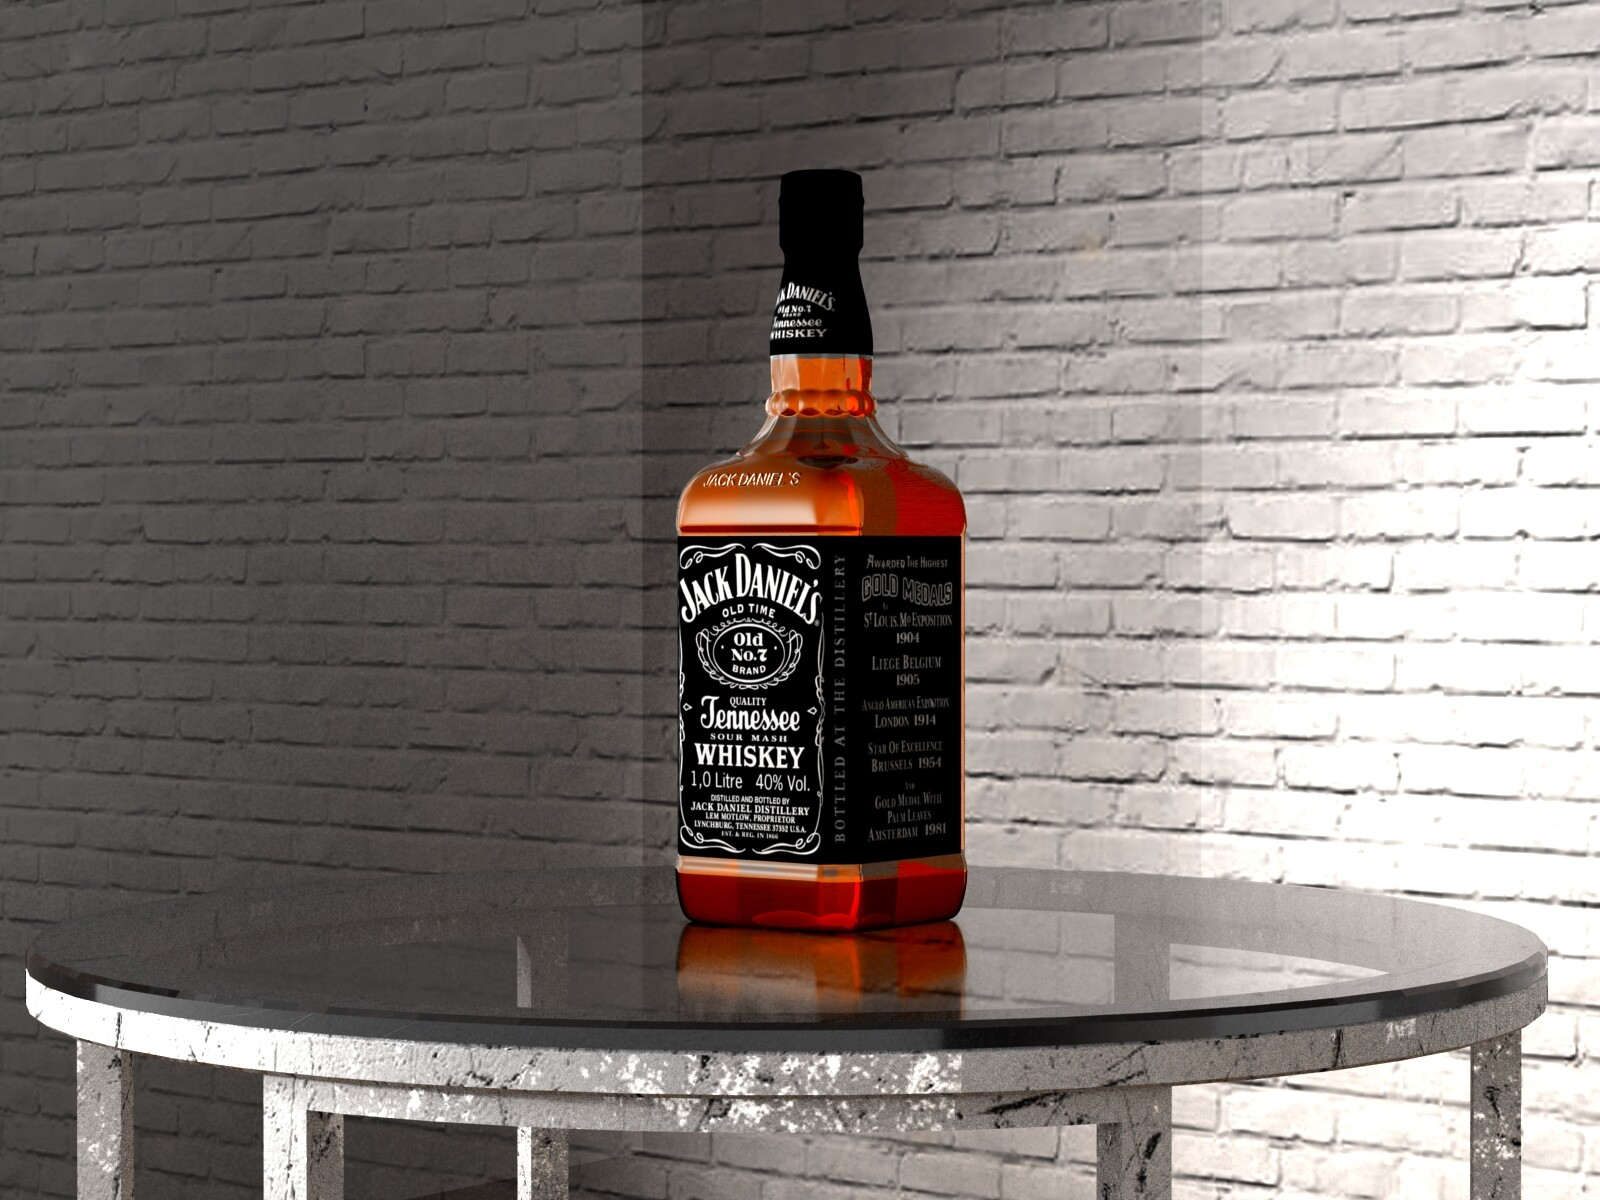Jack Daniel: (653, 154, 994, 949)
